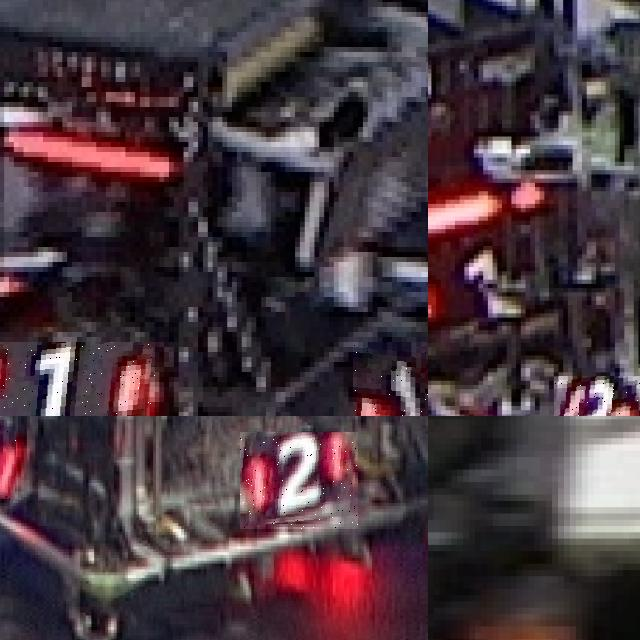R1: (0, 342, 154, 416), (353, 342, 428, 416)
R2: (240, 432, 358, 530), (553, 376, 640, 416)
